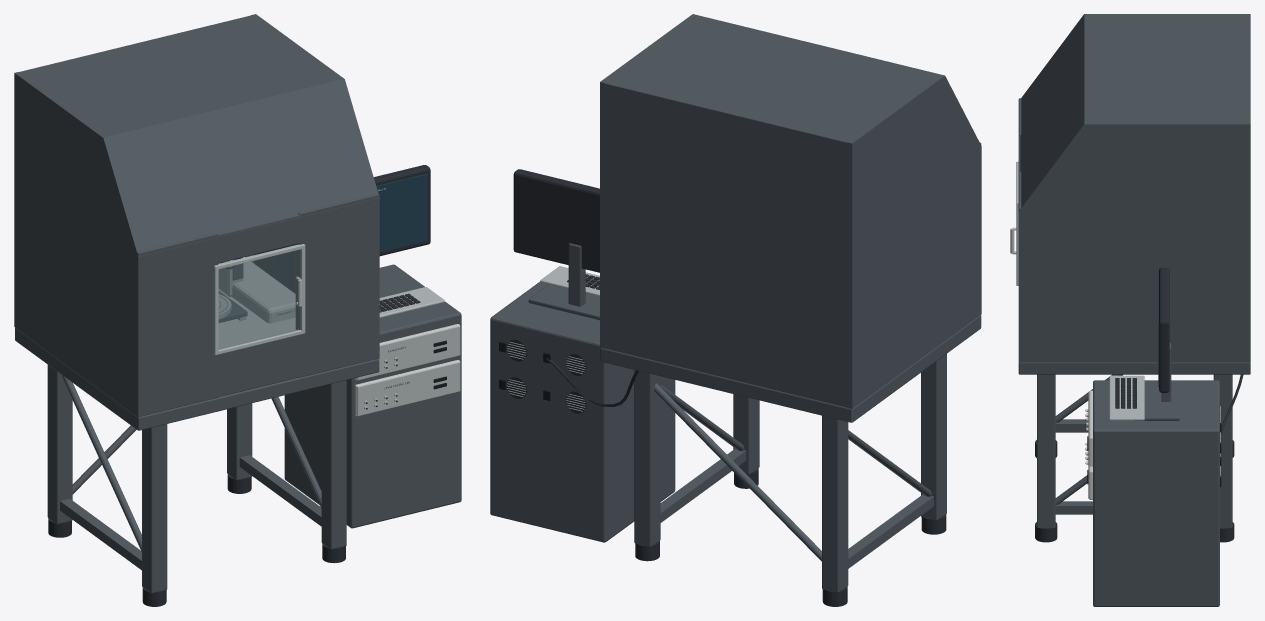
File: dimension-icon.glb
3 views of the same model, side by side, from view 1: azimuth 30°, elevation 25°; view 2: azimuth 150°, elevation 25°; view 3: azimuth 270°, elevation 25° (orthographic). The views are drawn at different scales.
Visible parts, largest first — view 1: acoustic_sidewall, sloped_front_cap, canopy_roof, cabinet, front_wall_cheek.001, front_wall_cheek, hatch_window, ISOLATION_DECK, column, column.002, front_wall_sill, column.001 (+16 smaller); view 2: upper_back, acoustic_sidewall, cabinet, canopy_roof, MONITOR, ISOLATION_DECK, column.001, column.003, column, back_stay, acoustic_sidewall.001, lower_rail (+6 smaller); view 3: acoustic_sidewall.001, cabinet, canopy_roof, sloped_front_cap, column.002, ISOLATION_DECK, column.003, MONITOR, display_foot, input_tray, acoustic_sidewall, upper_back (+4 smaller).
Boxes of the visible parts, left/top/right/bottom form: acoustic_sidewall: left=14, top=72, right=142, bottom=417; sloped_front_cap: left=104, top=79, right=377, bottom=255; canopy_roof: left=15, top=17, right=339, bottom=140; cabinet: left=284, top=264, right=461, bottom=528; front_wall_cheek.001: left=295, top=193, right=379, bottom=377; front_wall_cheek: left=137, top=233, right=218, bottom=415; hatch_window: left=218, top=250, right=300, bottom=349; ISOLATION_DECK: left=15, top=327, right=379, bottom=430; column: left=142, top=424, right=167, bottom=593; column.002: left=321, top=380, right=346, bottom=549; front_wall_sill: left=211, top=333, right=306, bottom=398; column.001: left=47, top=365, right=72, bottom=524; upper_back: left=602, top=81, right=849, bottom=407; acoustic_sidewall: left=847, top=74, right=981, bottom=408; cabinet: left=490, top=281, right=675, bottom=542; canopy_roof: left=600, top=15, right=939, bottom=146; MONITOR: left=513, top=169, right=599, bottom=272; ISOLATION_DECK: left=600, top=315, right=981, bottom=422; column.001: left=822, top=415, right=848, bottom=592; column.003: left=634, top=370, right=660, bottom=546; column: left=921, top=354, right=946, bottom=520; back_stay: left=654, top=383, right=821, bottom=561; acoustic_sidewall.001: left=600, top=14, right=697, bottom=348; lower_rail: left=848, top=494, right=933, bottom=568; acoustic_sidewall.001: left=1018, top=122, right=1250, bottom=362; cabinet: left=1093, top=380, right=1219, bottom=606; canopy_roof: left=1084, top=16, right=1249, bottom=128; sloped_front_cap: left=1020, top=15, right=1084, bottom=207; column.002: left=1037, top=374, right=1055, bottom=528; ISOLATION_DECK: left=1018, top=362, right=1250, bottom=374; column.003: left=1213, top=374, right=1232, bottom=528; MONITOR: left=1159, top=267, right=1169, bottom=392; display_foot: left=1134, top=381, right=1179, bottom=420; input_tray: left=1109, top=375, right=1144, bottom=420; acoustic_sidewall: left=1021, top=14, right=1250, bottom=99; upper_back: left=1245, top=16, right=1250, bottom=121.
Size of the model in its own units: 1.39 by 1.65 by 0.8424.
